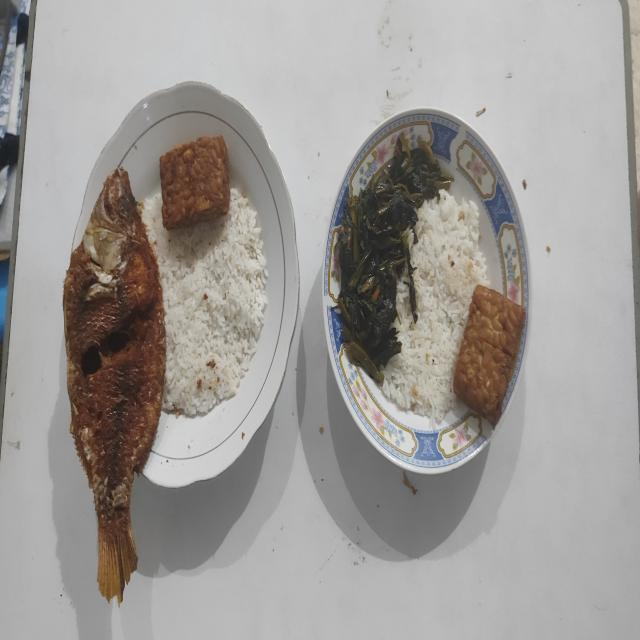ikan_mujair: (63, 169, 166, 602)
nasi_putih: (141, 188, 268, 416), (380, 190, 490, 426)
tempe_goreng: (454, 284, 526, 424), (160, 136, 230, 230)
tumis_kangkung: (332, 133, 453, 384)
